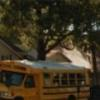buses: (0, 61, 91, 100)
